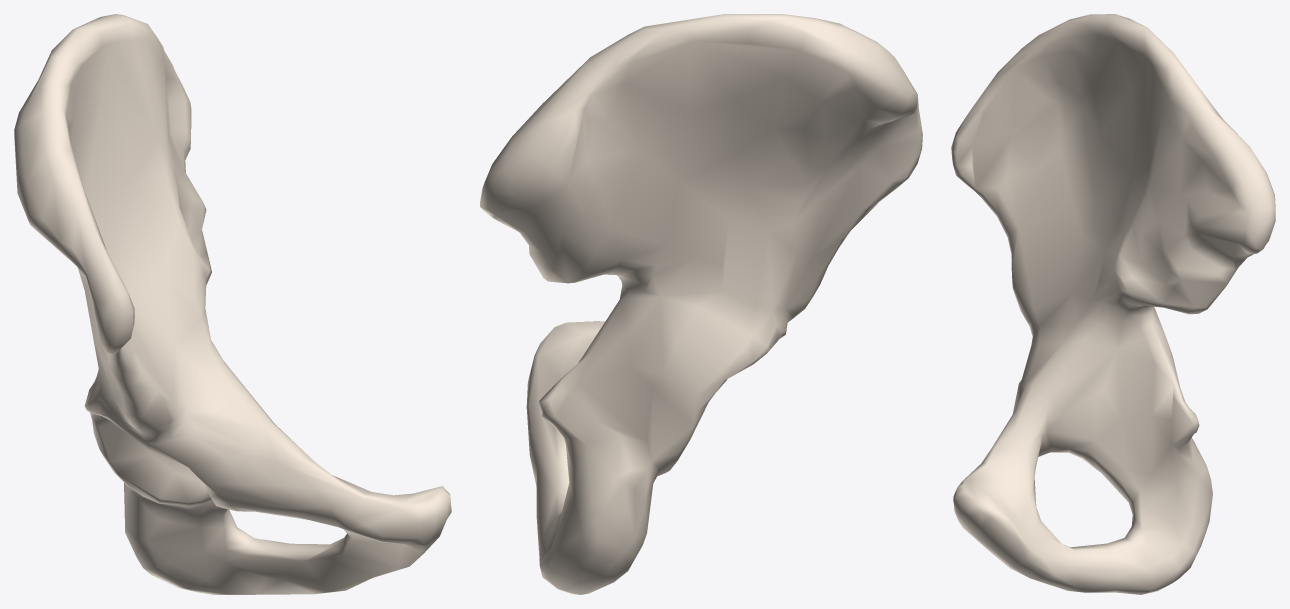
Rendered from right_coxal.glb.
3 views of the same model, side by side, from view 1: azimuth 30°, elevation 25°; view 2: azimuth 150°, elevation 25°; view 3: azimuth 270°, elevation 25° (orthographic). The views are drawn at different scales.
Visible parts, largest first — view 1: Hip bone.r; view 2: Hip bone.r; view 3: Hip bone.r.
Boxes of the visible parts, x1=… form: Hip bone.r: x1=14, y1=14, x2=451, y2=594; Hip bone.r: x1=480, y1=14, x2=922, y2=594; Hip bone.r: x1=951, y1=14, x2=1275, y2=594.
Size of the model in its own units: 0.0963 by 0.1428 by 0.0842.
